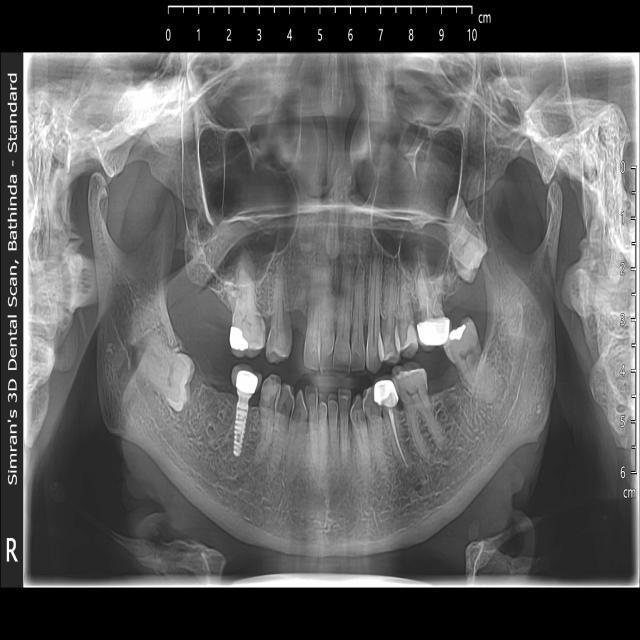dolgu: (227, 315, 270, 357), (444, 323, 475, 342)
implant: (230, 372, 258, 460)
kanal-tedavisi: (410, 266, 443, 314), (387, 409, 410, 475)
kaplama: (414, 308, 452, 351), (372, 381, 403, 412)
